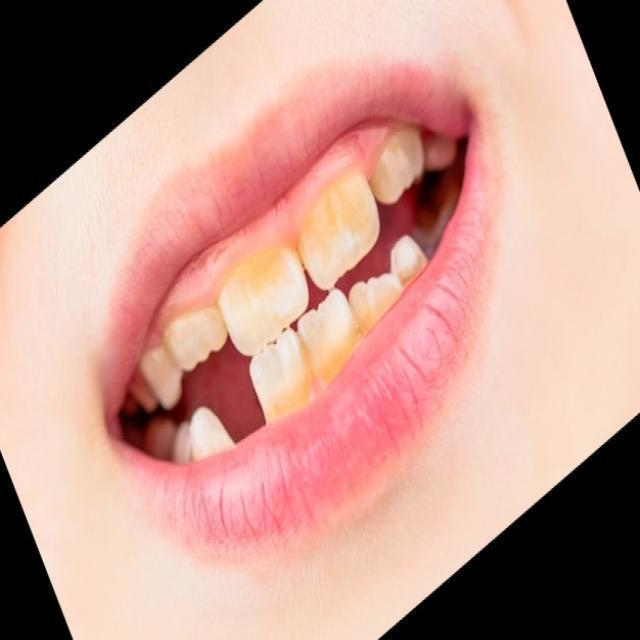Cavity: (300, 184, 377, 267), (221, 267, 297, 343), (304, 297, 358, 373), (372, 133, 417, 200), (395, 220, 426, 296), (148, 339, 175, 407)
